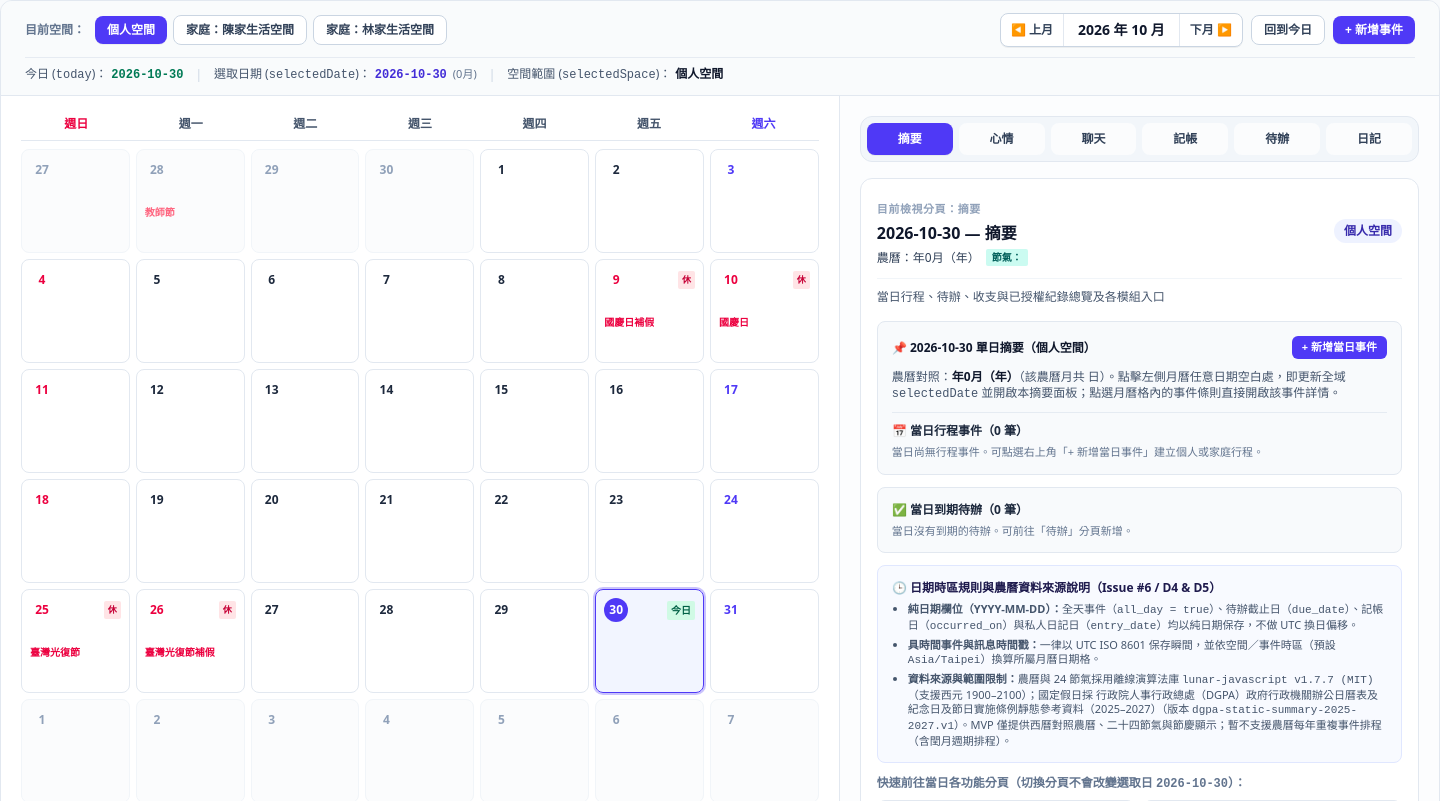
Issue #9 ChatPanel & CalendarWorkspace Mood/Chat Integration › Family Chat Room ("聊天" Tab) › in personal space, chat tab instructs user to select a family space
Click the tab with test id "right-tab-chat" at (1093, 139), box 1050,123 -> 1136,155
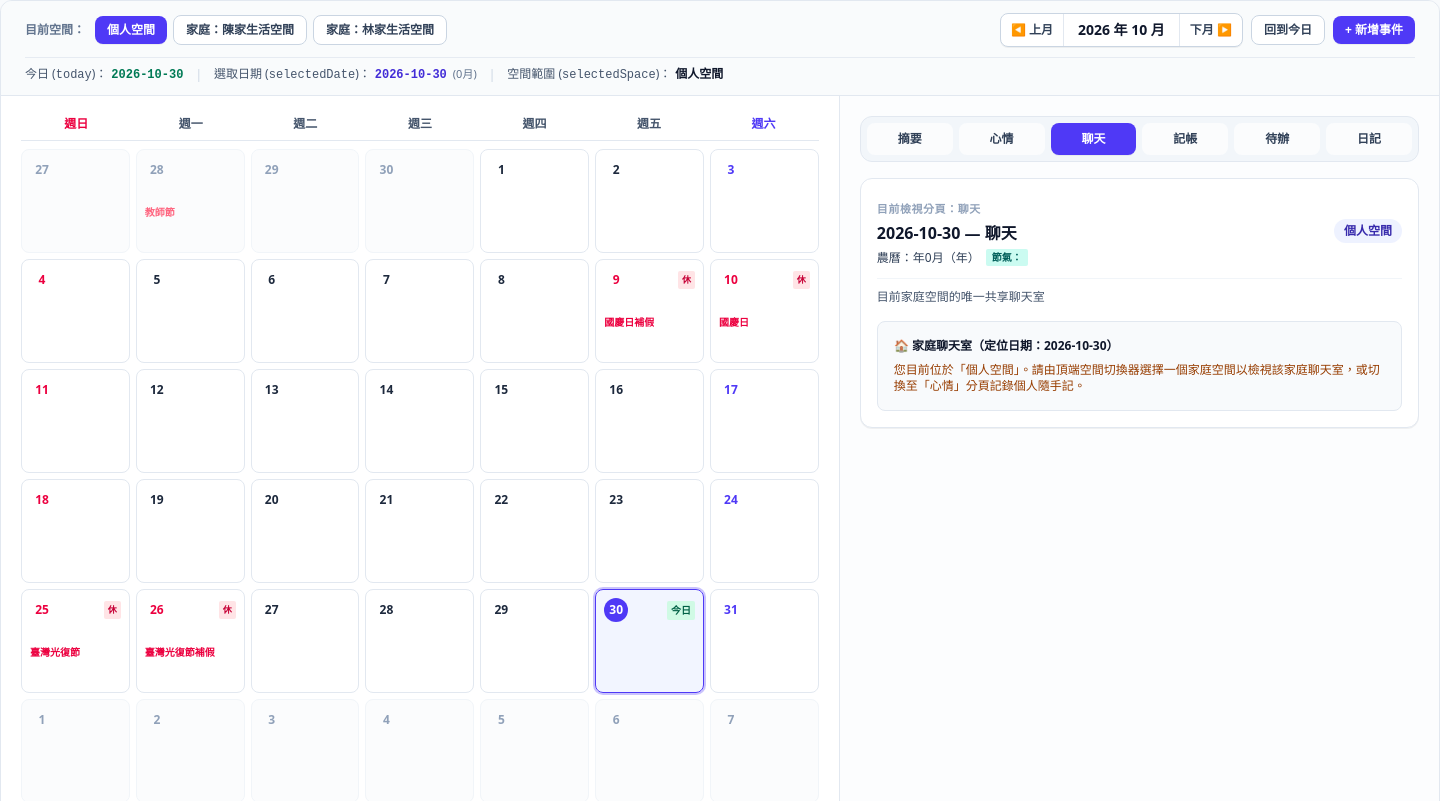
Expected: the text "您目前位於「個人空間」。請由頂端空間切換器選擇一個家庭空間以檢視該家庭聊天室，或切換至「心情」分頁記錄個人隨手記。" is shown, 894,362 -> 1385,394
